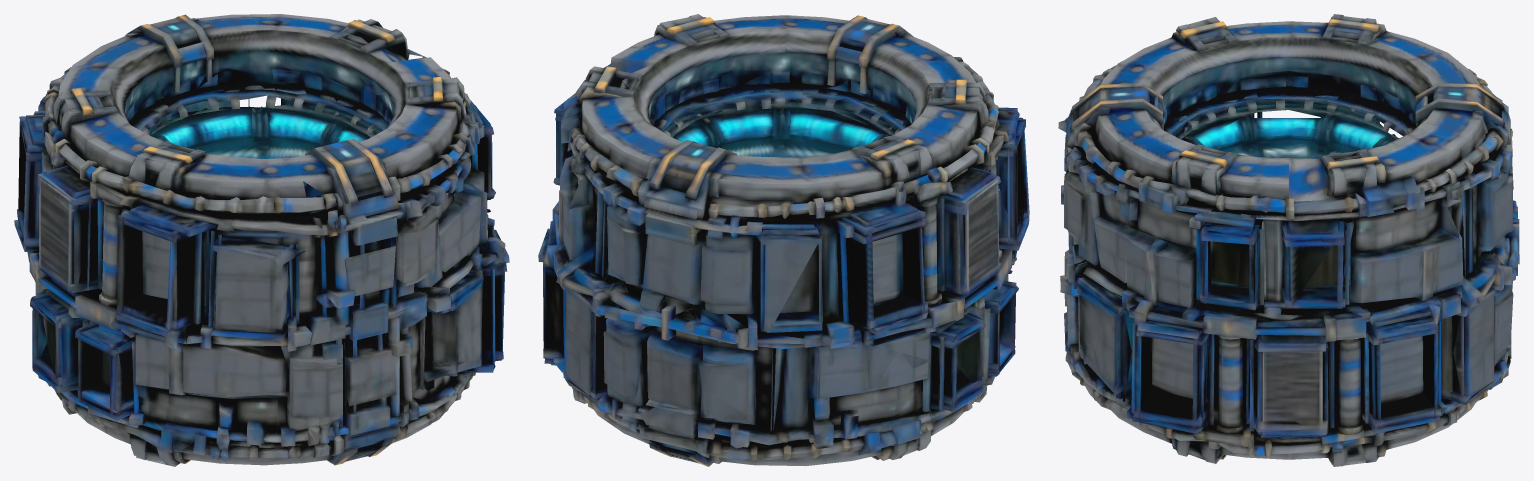
Rendered from portal.glb.
3 views of the same model, side by side, from view 1: azimuth 30°, elevation 25°; view 2: azimuth 150°, elevation 25°; view 3: azimuth 270°, elevation 25° (orthographic). The views are drawn at different scales.
Parts seen in each view (by area): view 1: portal; view 2: portal; view 3: portal.
Part boxes in pixels (left/top/right/bottom): portal: left=14, top=14, right=509, bottom=466; portal: left=538, top=14, right=1029, bottom=466; portal: left=1058, top=14, right=1519, bottom=466.
Size of the model in its own units: 287 by 204 by 288.
1 material, 1 textured.
